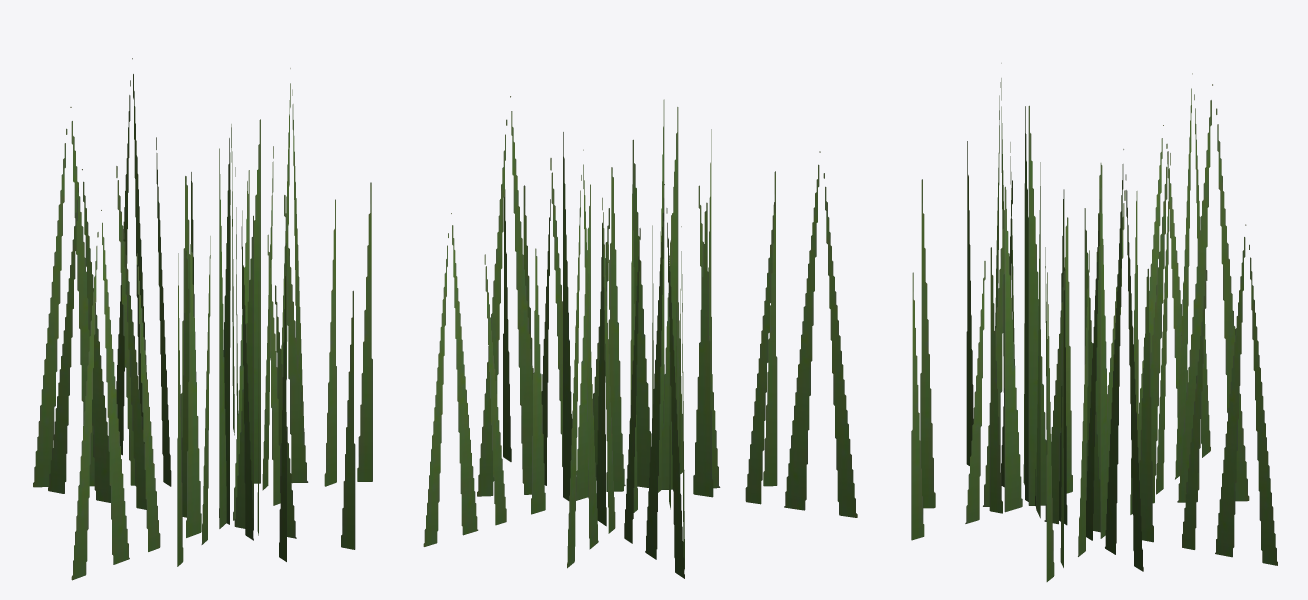
The model's file is grass.glb.
3 renders of one model, left to right at view 1: azimuth 30°, elevation 25°; view 2: azimuth 150°, elevation 25°; view 3: azimuth 270°, elevation 25°, orthographic. The views are drawn at different scales.
Parts seen in each view (by area): view 1: tuft; view 2: tuft; view 3: tuft.
Boxes of the visible parts, x1,y1,x2,y2 form: tuft: (33, 58, 372, 580); tuft: (423, 96, 857, 578); tuft: (911, 63, 1277, 581).
Size of the model in its own units: 0.3566 by 0.4178 by 0.3325.
1 material, 1 textured.
